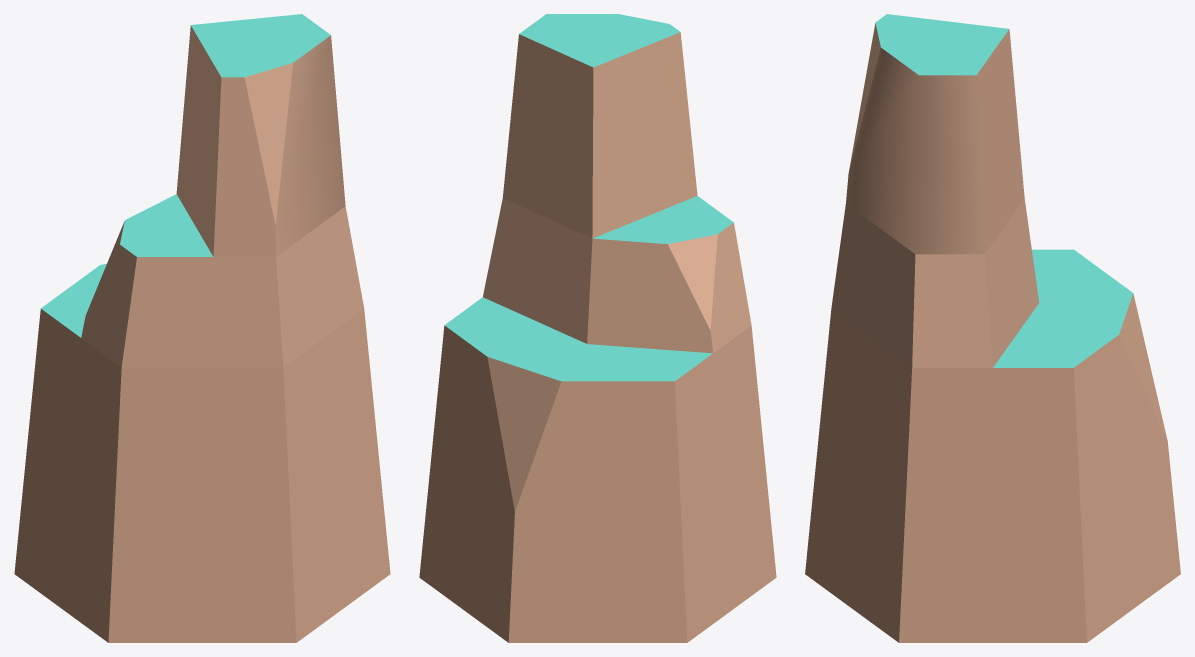
The model's file is rock_tallG.glb.
The picture shows the model from 3 angles, left to right: view 1: azimuth 30°, elevation 25°; view 2: azimuth 150°, elevation 25°; view 3: azimuth 270°, elevation 25°; orthographic projection. The views are drawn at different scales.
Visible parts, largest first — view 1: rock_tallG; view 2: rock_tallG; view 3: rock_tallG.
Boxes of the visible parts, x1,y1,x2,y2 form: rock_tallG: (14,14,390,642); rock_tallG: (419,14,776,642); rock_tallG: (805,14,1180,642).
Size of the model in its own units: 0.4249 by 0.7829 by 0.4907.
Materials: 1 (1 with a texture image).
